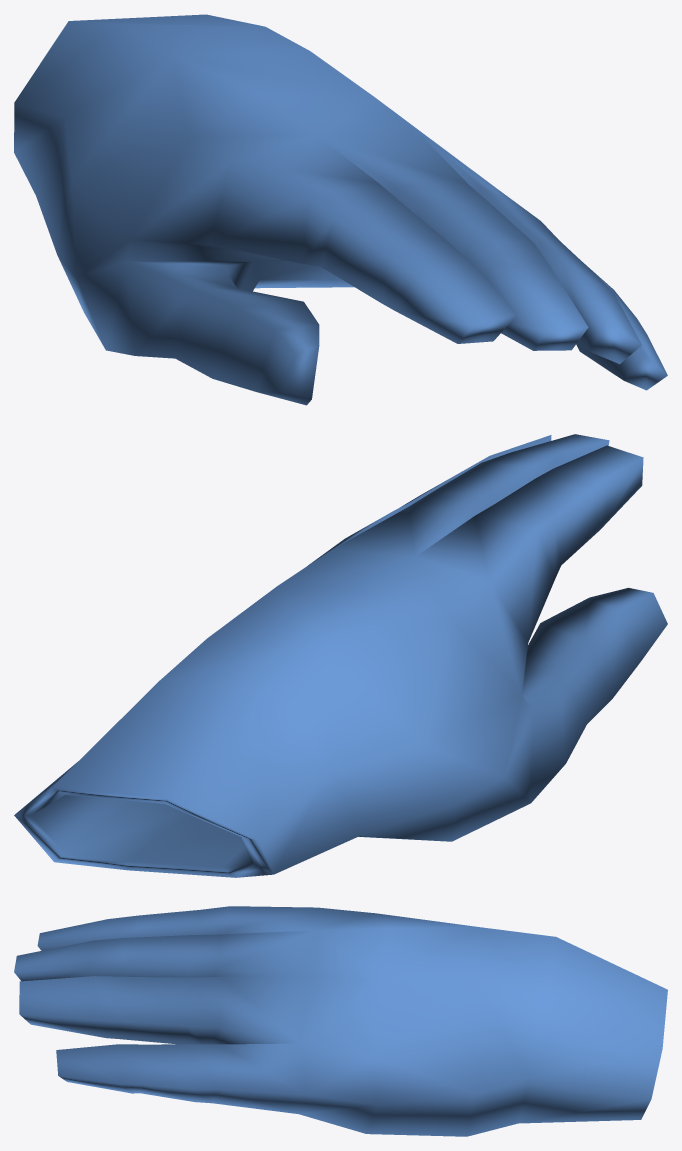
The model's file is human-household-items-medical-glove_v1.glb.
The picture shows the model from 3 angles, top to bottom: view 1: azimuth 30°, elevation 25°; view 2: azimuth 150°, elevation 25°; view 3: azimuth 270°, elevation 25°; orthographic projection. The views are drawn at different scales.
Parts seen in each view (by area): view 1: Medical Glove_v1; view 2: Medical Glove_v1; view 3: Medical Glove_v1.
Boxes of the visible parts, box(x1,y1,x2,y2) form: Medical Glove_v1: box(14, 14, 667, 405); Medical Glove_v1: box(14, 434, 667, 877); Medical Glove_v1: box(14, 906, 667, 1136).
Bounding box in the file's own units: 0.1156 × 0.0692 × 0.25.
